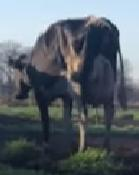cow: (15, 17, 120, 152)
